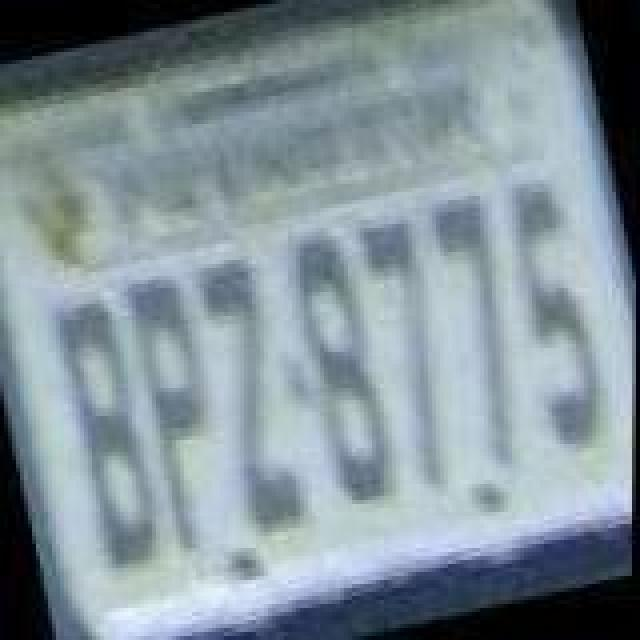5: (490, 164, 622, 460)
7: (348, 206, 476, 498), (422, 182, 546, 474)
8: (274, 224, 406, 512)
B: (48, 296, 180, 584)
P: (114, 264, 246, 560)
Z: (186, 248, 318, 536)
